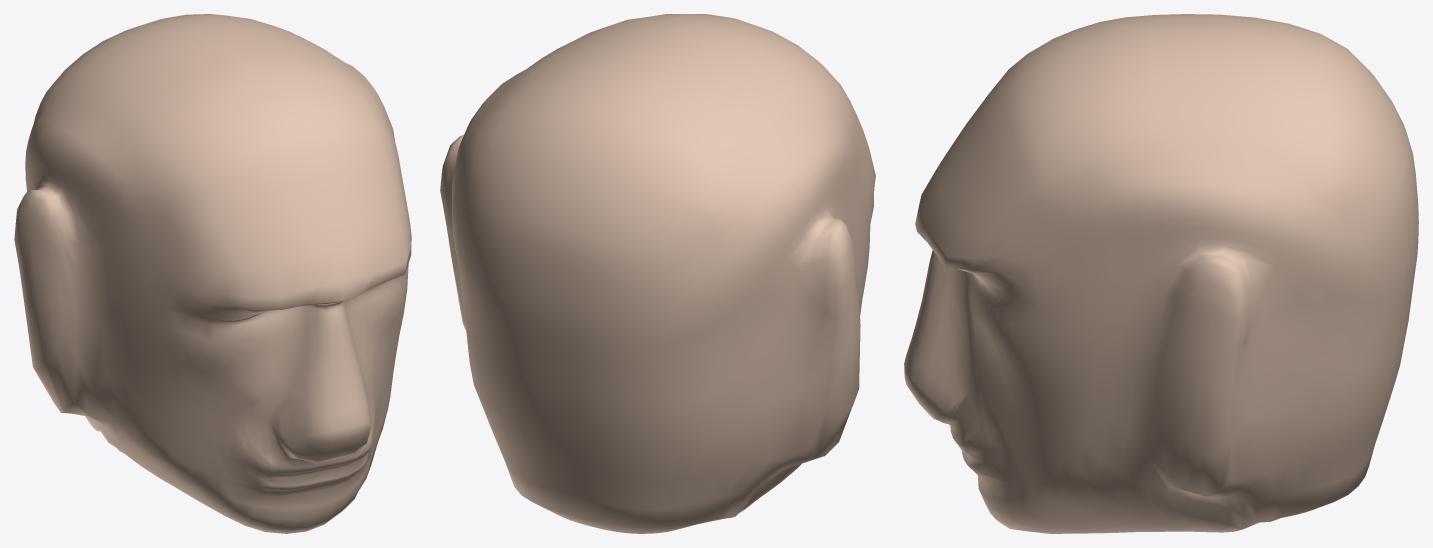
Rendered from SM_StatueHead.fbx.
3 views of the same model, side by side, from view 1: azimuth 30°, elevation 25°; view 2: azimuth 150°, elevation 25°; view 3: azimuth 270°, elevation 25° (orthographic). The views are drawn at different scales.
Parts seen in each view (by area): view 1: StoneHead; view 2: StoneHead; view 3: StoneHead.
Boxes of the visible parts, <box> form: StoneHead: <box>14,14,411,533</box>; StoneHead: <box>440,14,875,533</box>; StoneHead: <box>904,14,1418,533</box>.
Bounding box in the file's own units: 392 × 431 × 416.
